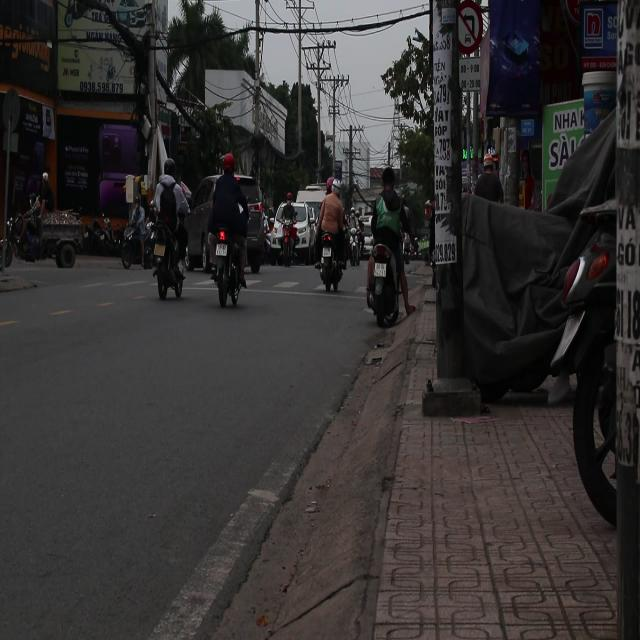motorbike: (546, 169, 638, 543), (364, 240, 406, 324), (207, 225, 248, 307), (150, 222, 186, 299), (315, 228, 348, 294), (347, 209, 368, 265), (278, 222, 300, 268)
